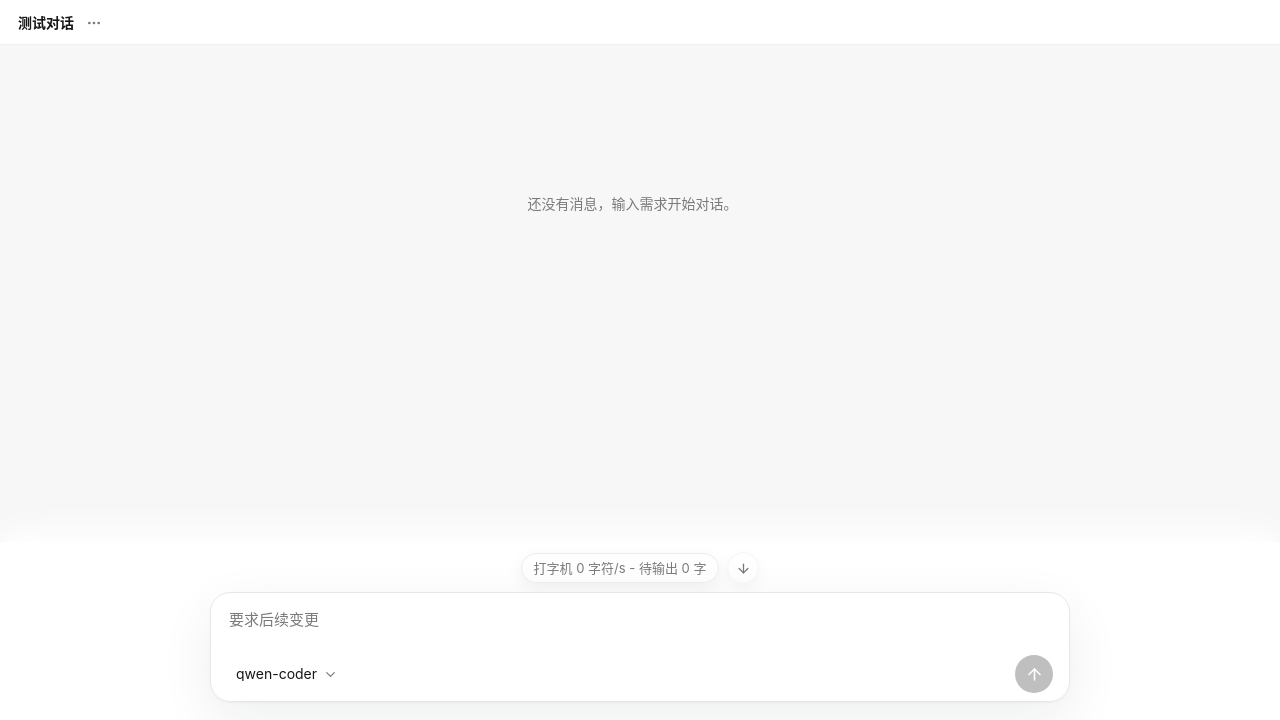
ConversationPage › folds stack trace details out of the ordinary request error UI
This screenshot has width=1280, height=720.
Type "触发错误" into the text box named "继续输入" at (640, 631), box left=227, top=607, right=1053, bottom=655
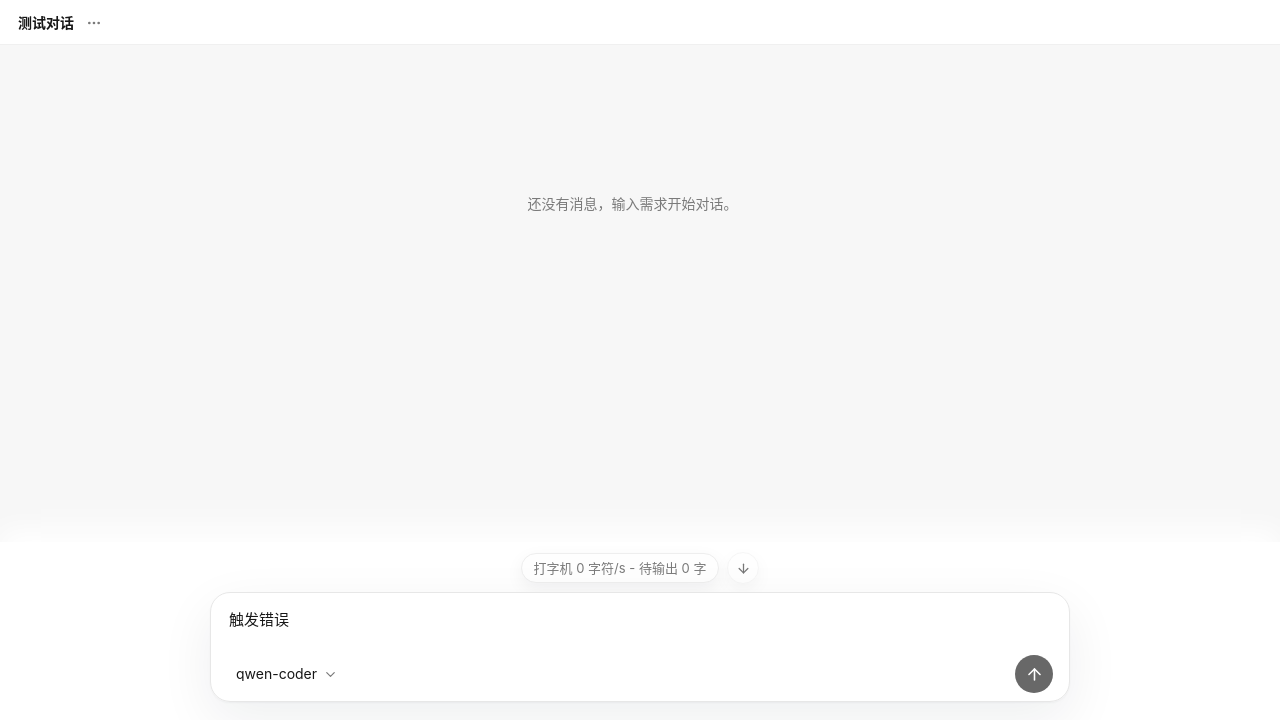
Expected: the button named "发送" is enabled
Click the button named "发送" at (1034, 674), box left=1015, top=655, right=1053, bottom=693
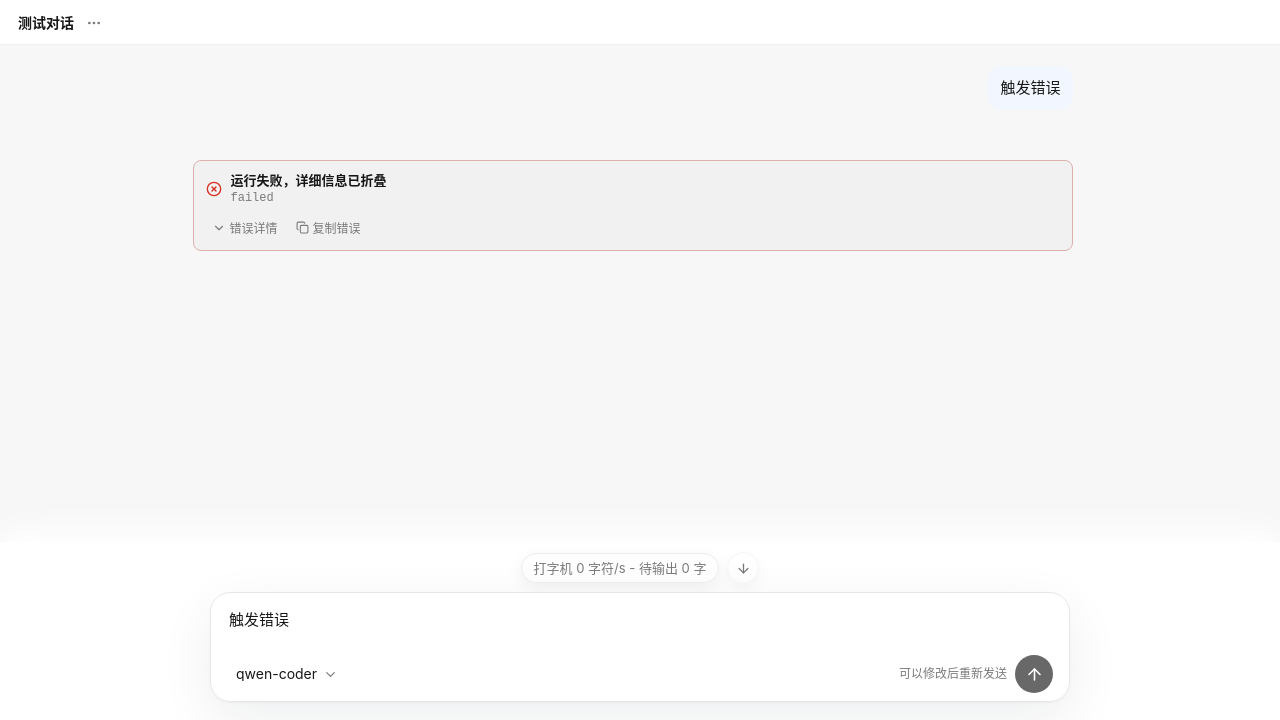
Expected: the text "运行失败，详细信息已折叠" is shown, left=230, top=170, right=386, bottom=189
